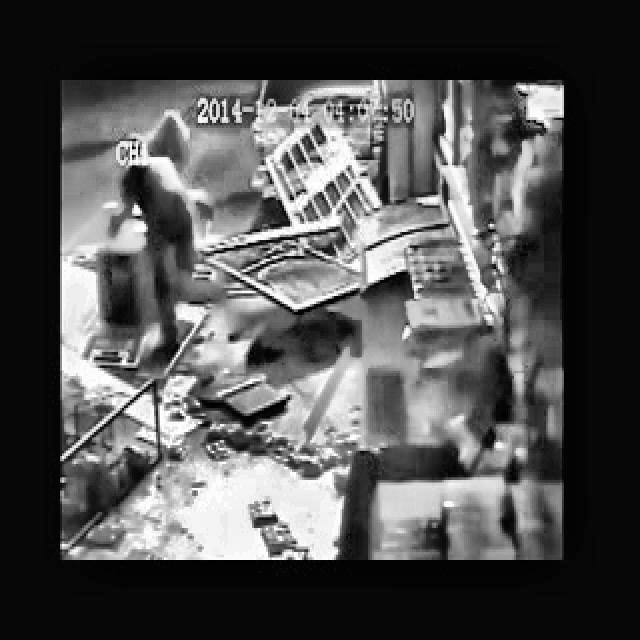burglary: (93, 108, 216, 360)
